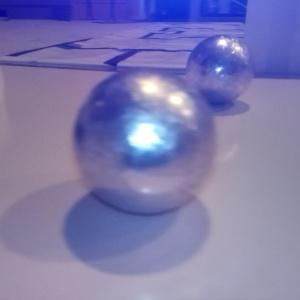alive_ball: (73, 68, 216, 214), (184, 33, 252, 103)
